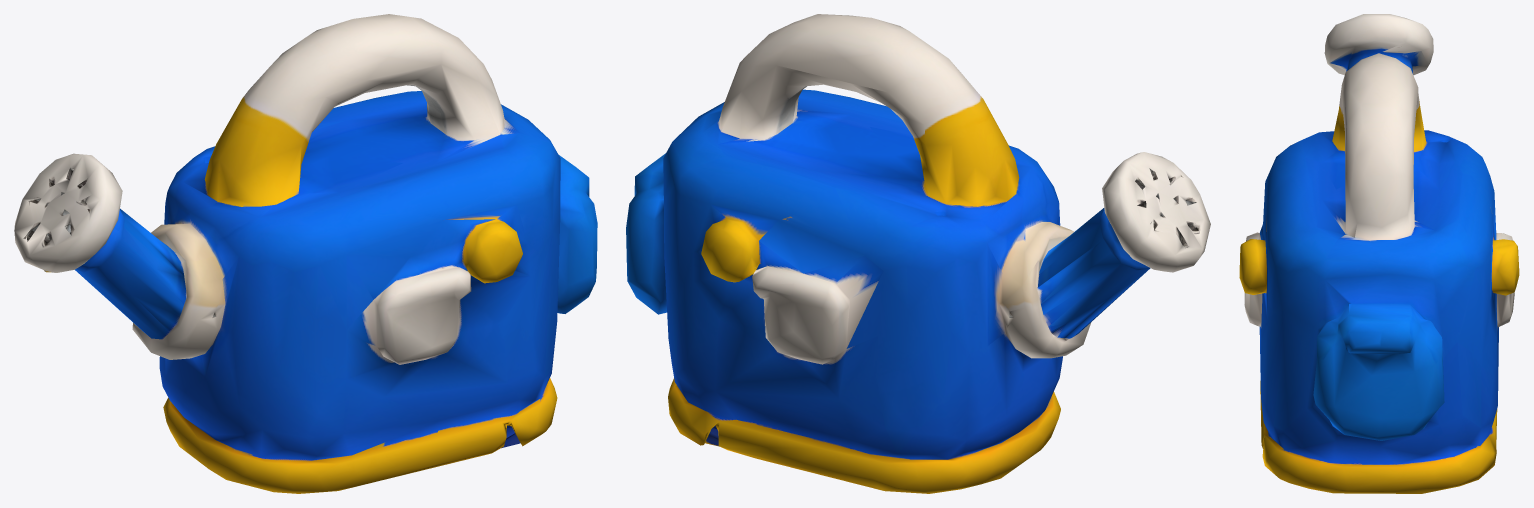
The model's file is kova.glb.
3 renders of one model, left to right at view 1: azimuth 30°, elevation 25°; view 2: azimuth 150°, elevation 25°; view 3: azimuth 270°, elevation 25°, orthographic. The views are drawn at different scales.
Parts seen in each view (by area): view 1: tripo_node_8389ff81-30ac-4398-8d3b-9db77a31ffd1; view 2: tripo_node_8389ff81-30ac-4398-8d3b-9db77a31ffd1; view 3: tripo_node_8389ff81-30ac-4398-8d3b-9db77a31ffd1.
Part boxes in pixels (x1,y1,x2,y2): tripo_node_8389ff81-30ac-4398-8d3b-9db77a31ffd1: (14, 14, 597, 493); tripo_node_8389ff81-30ac-4398-8d3b-9db77a31ffd1: (626, 14, 1210, 493); tripo_node_8389ff81-30ac-4398-8d3b-9db77a31ffd1: (1239, 14, 1519, 493).
Bounding box in the file's own units: 0.7897 × 0.55 × 0.3921.
1 material, 1 textured.
